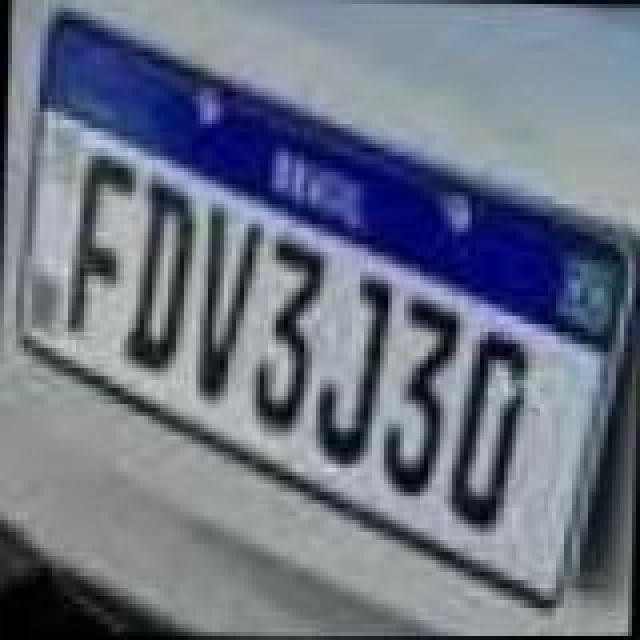3: (378, 298, 458, 502), (250, 238, 326, 430)
D: (444, 330, 528, 534), (122, 180, 198, 376)
F: (62, 154, 134, 334)
J: (312, 272, 392, 468)
V: (194, 200, 270, 400)
